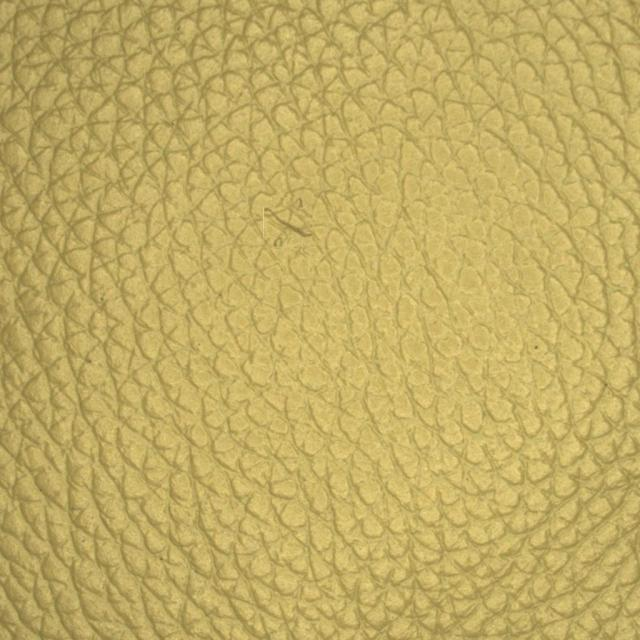Scratch: (219, 158, 358, 306)
